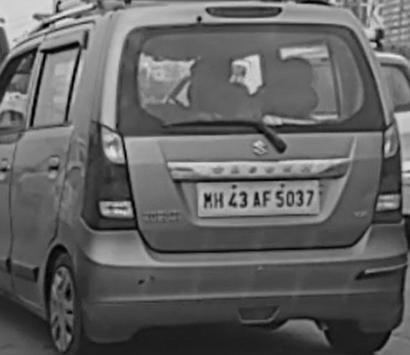number_plate: (200, 185, 320, 214)
